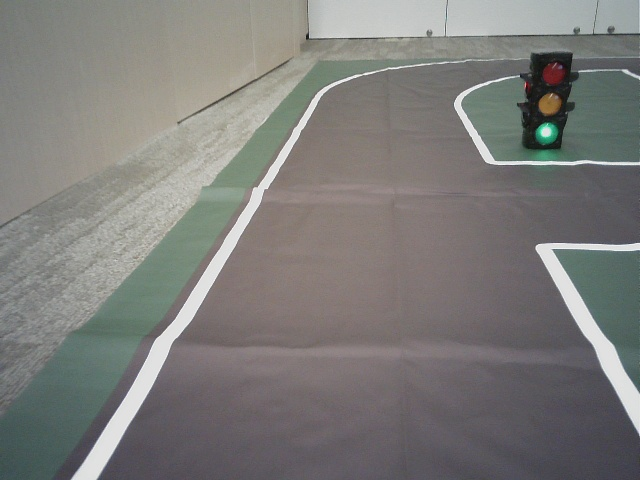green: (533, 54, 569, 147)
